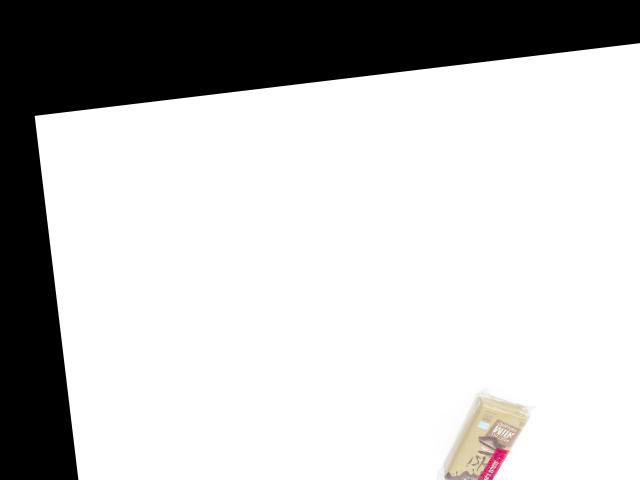chocolate: (433, 386, 549, 480)
